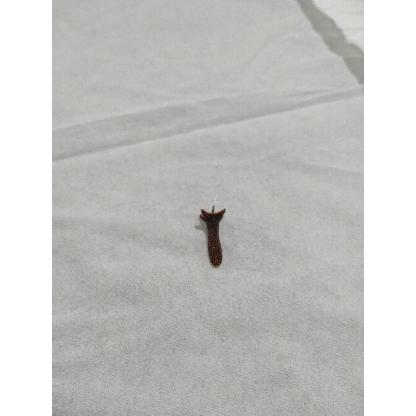buruk: (197, 205, 227, 269)
